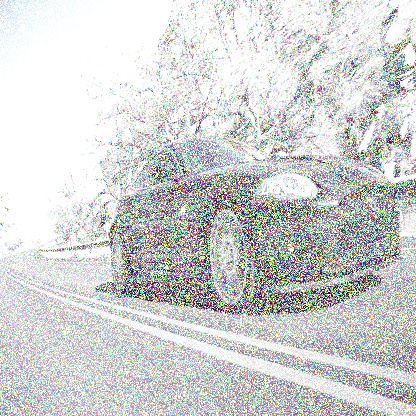Vehicle: (109, 139, 404, 316)
